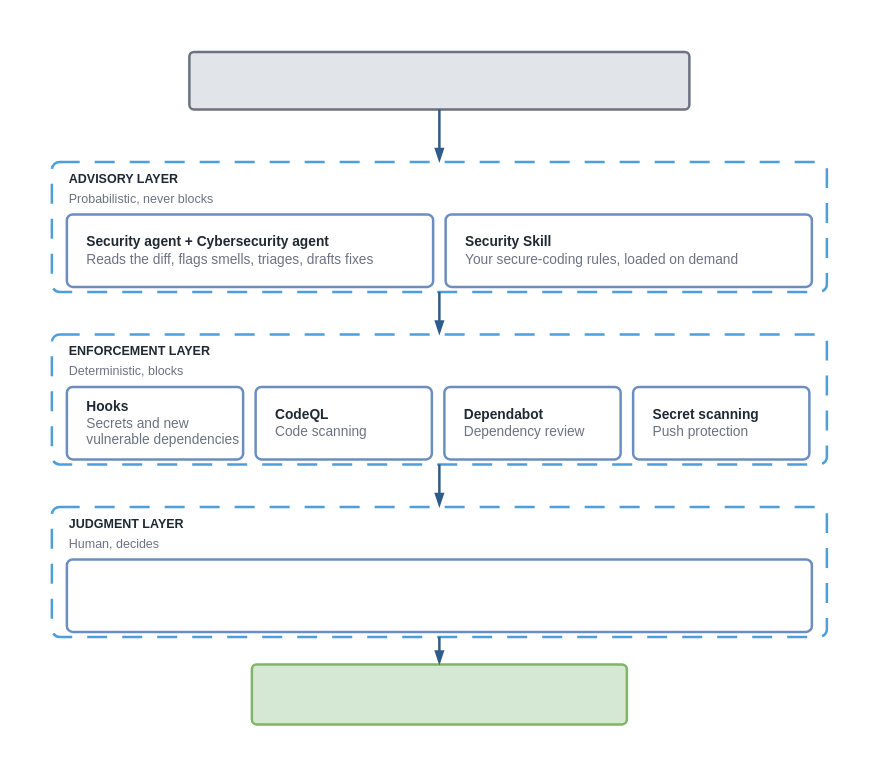
This 878x775 diagram has some shape labels left out. Here are the shapes that lost their labels. From the top down, the centre of each, then its label:
the point at 439,80: Developer or Copilot agent makes a change
the point at 438,595: Security engineer Authorization, access control, threat model, sign-off
the point at 439,693: Merge / deploy
